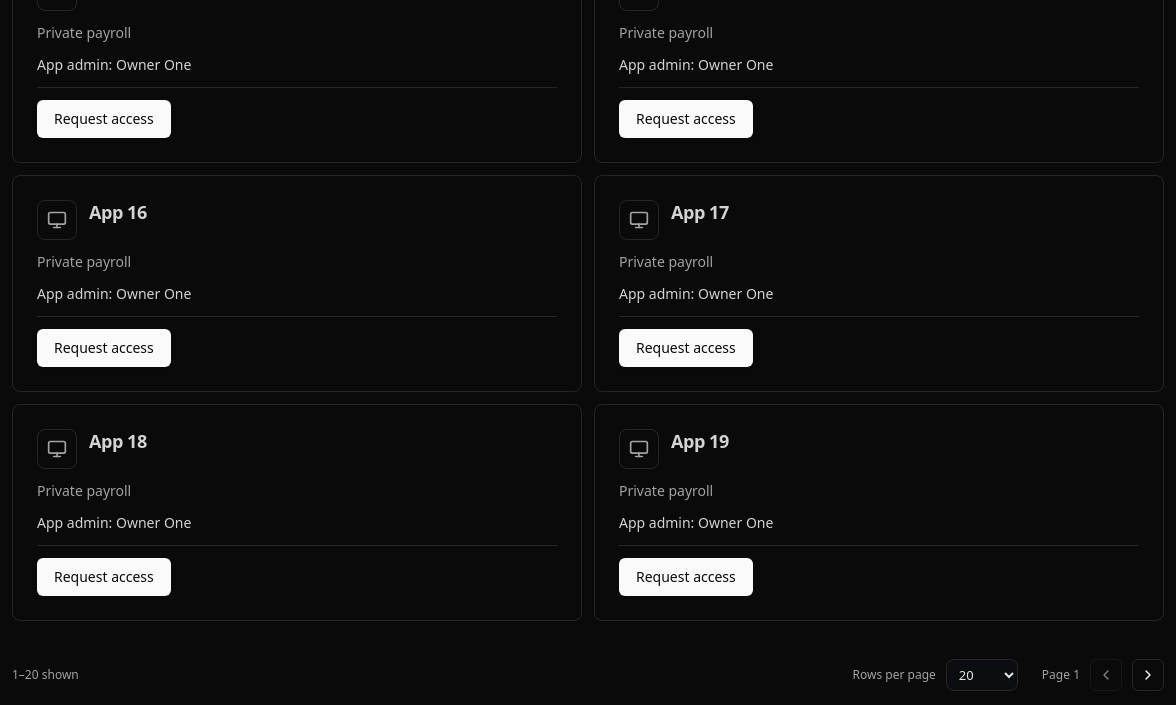
Test: Company app discovery and requests › requests the selected company-app limit and resets pagination when it changes
The width and height of the screenshot is (1176, 705).
(page scrolled)
Select "10" in the dropdown named "Rows per page". click: (982, 675)
box: x1=946 y1=659 x2=1018 y2=691
(page scrolled)
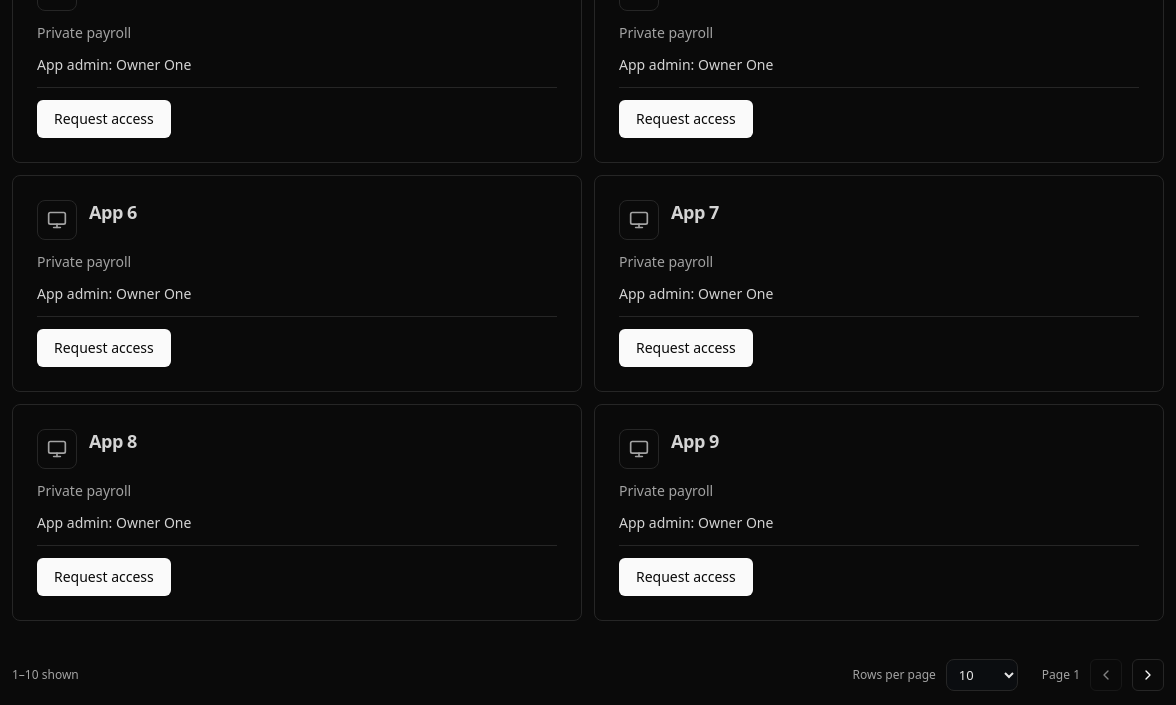
Click the button named "Next page". click: (1148, 675)
box: x1=1132 y1=659 x2=1164 y2=691
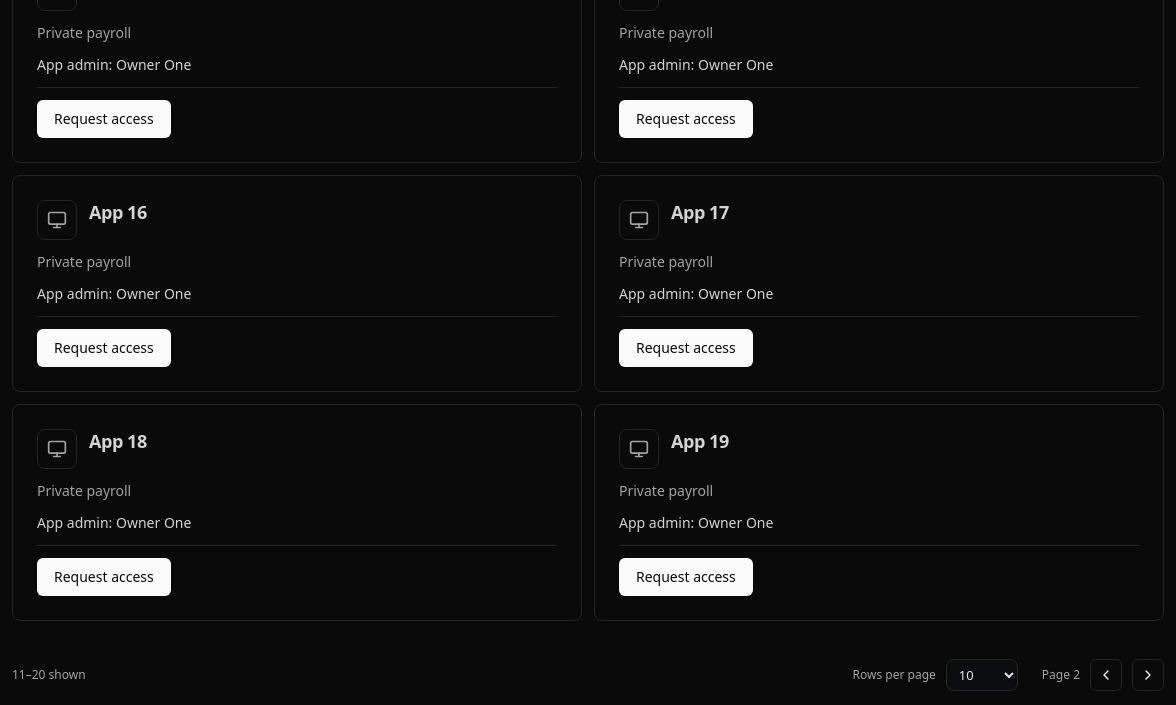
Select "50" in the dropdown named "Rows per page". click: (982, 675)
box: x1=946 y1=659 x2=1018 y2=691
(page scrolled)
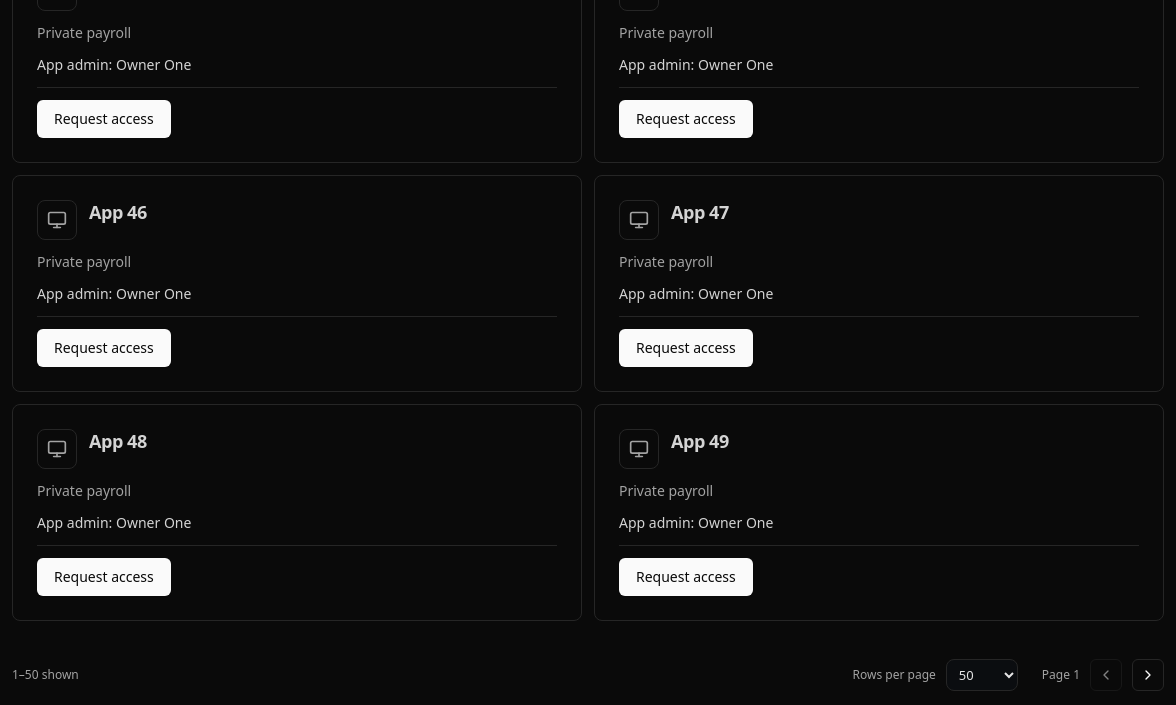
expect the button named "Previous page" is disabled: met, box x1=1090 y1=659 x2=1122 y2=691
expect the heading "App 49" is shown: met, box x1=671 y1=429 x2=729 y2=453
